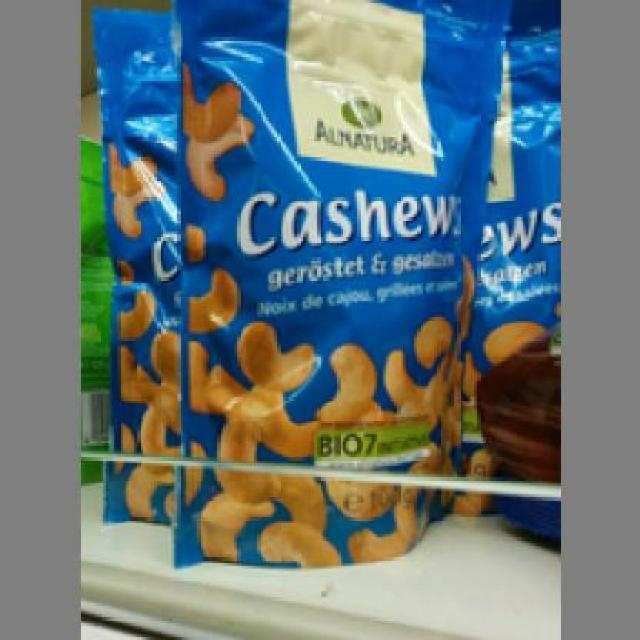Nuts: (167, 0, 509, 572)
